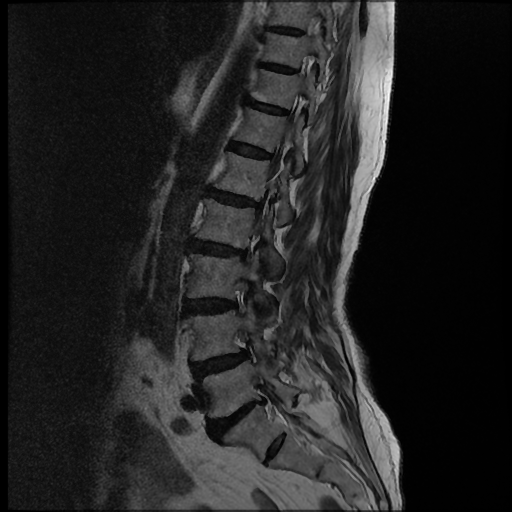LFS0: (219, 270, 262, 322)
LFS2: (224, 325, 269, 378)
